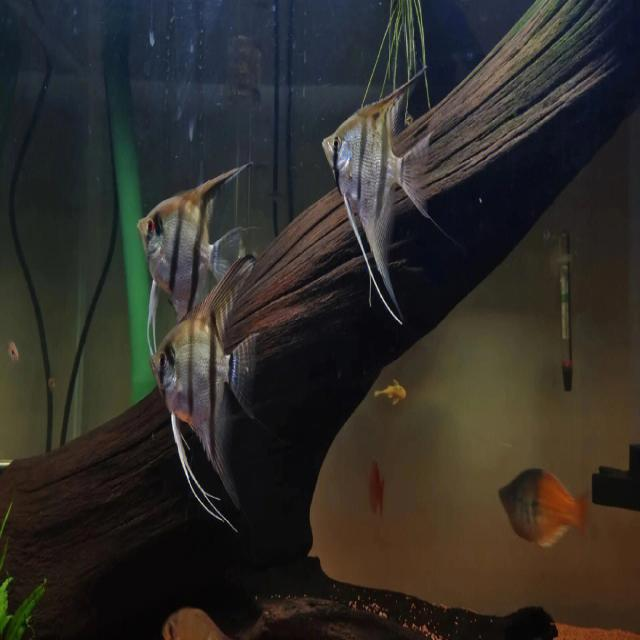AngelFish: (151, 253, 257, 539), (318, 70, 429, 330), (136, 158, 250, 337)
